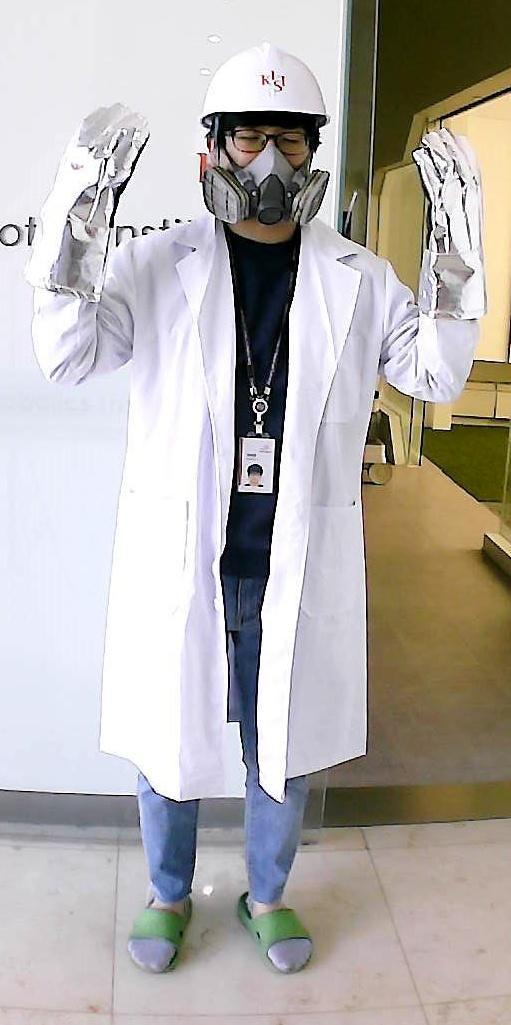lab_coat: (98, 238, 380, 786)
